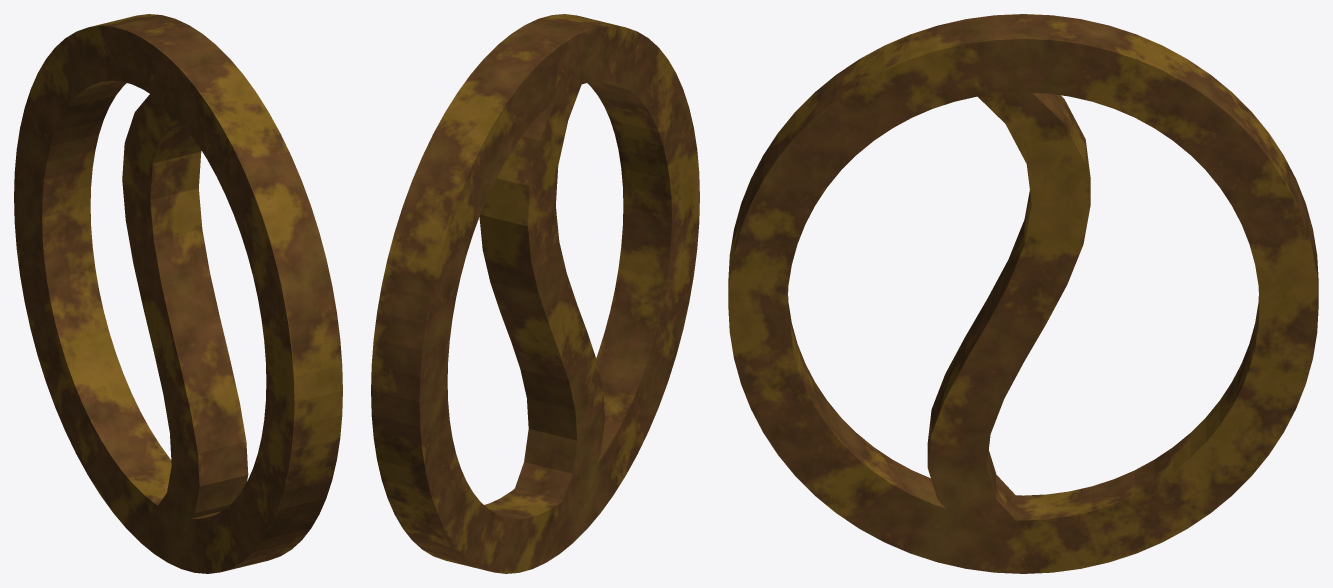
File: Collectible3.fbx
3 views of the same model, side by side, from view 1: azimuth 30°, elevation 25°; view 2: azimuth 150°, elevation 25°; view 3: azimuth 270°, elevation 25° (orthographic). The views are drawn at different scales.
Parts seen in each view (by area): view 1: Circle.008; view 2: Circle.008; view 3: Circle.008.
Boxes of the visible parts, x1=… form: Circle.008: x1=14, y1=14, x2=342, y2=573; Circle.008: x1=371, y1=14, x2=699, y2=573; Circle.008: x1=728, y1=14, x2=1318, y2=573.
Bounding box in the file's own units: 8 × 80 × 80.
1 material, 1 textured.
